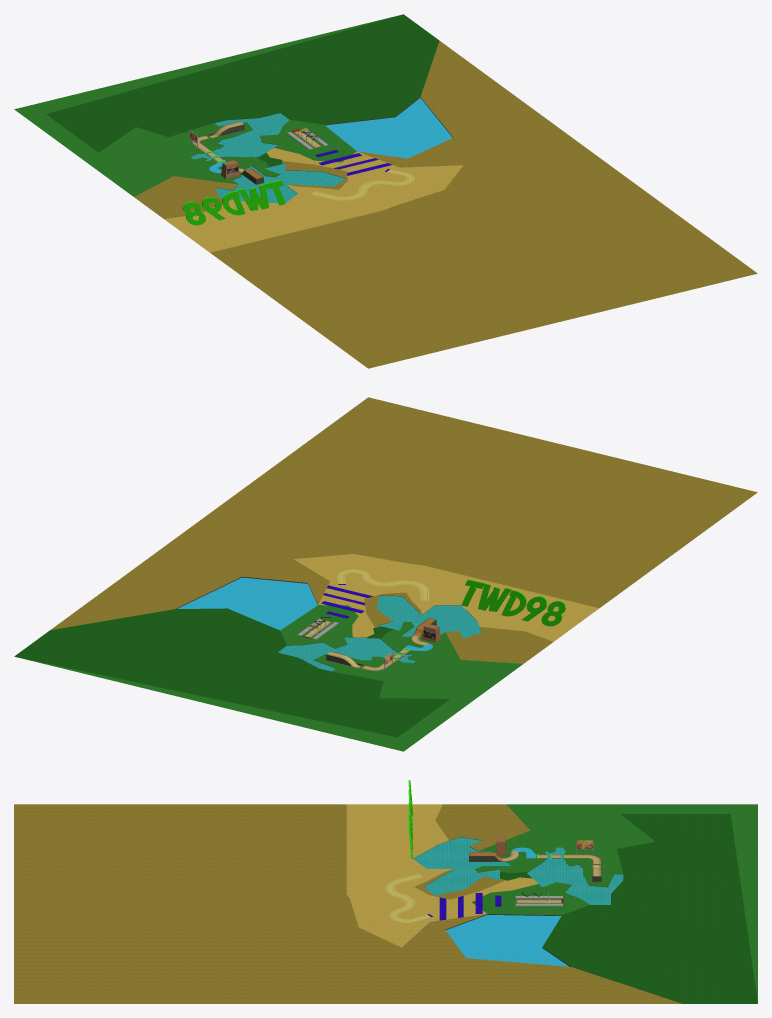
The picture shows the model from 3 angles, top to bottom: view 1: azimuth 30°, elevation 25°; view 2: azimuth 150°, elevation 25°; view 3: azimuth 270°, elevation 25°; orthographic projection. The views are drawn at different scales.
Parts seen in each view (by area): view 1: Troy_Main-sanddeath.001, Troy_Main-grassdeath.001, Troy_Main-grass.001, Troy_Main-Material5.001, Troy_Main-Water_Sparkling.001, Troy_Main-Water_Pool.001, Troy_Main-TWD.001, Troy_Main-walls.001, Troy_Main-Material6.001, Troy_Main-dirt.001; view 2: Troy_Main-sanddeath.001, Troy_Main-grassdeath.001, Troy_Main-grass.001, Troy_Main-Material5.001, Troy_Main-Water_Pool.001, Troy_Main-Water_Sparkling.001, Troy_Main-TWD.001, Troy_Main-dirt.001, Troy_Main-walls.001, Troy_Main-Material6.001; view 3: Troy_Main-sanddeath.001, Troy_Main-grassdeath.001, Troy_Main-grass.001, Troy_Main-Material5.001, Troy_Main-Water_Pool.001, Troy_Main-Water_Sparkling.001, Troy_Main-dirt.001, Troy_Main-walls.001, Troy_Main-Material6.001, Troy_Main-boost.001.
Part boxes in pixels (x1,y1,x2,y2): Troy_Main-sanddeath.001: (134, 41, 757, 368); Troy_Main-grassdeath.001: (46, 14, 439, 166); Troy_Main-grass.001: (14, 15, 397, 196); Troy_Main-Material5.001: (164, 148, 463, 252); Troy_Main-Water_Sparkling.001: (209, 98, 452, 173); Troy_Main-Water_Pool.001: (191, 113, 345, 203); Troy_Main-TWD.001: (183, 180, 285, 225); Troy_Main-walls.001: (191, 97, 453, 193); Troy_Main-Material6.001: (311, 169, 414, 200); Troy_Main-dirt.001: (192, 121, 322, 172); Troy_Main-sanddeath.001: (50, 397, 757, 663); Troy_Main-grassdeath.001: (14, 608, 449, 737); Troy_Main-grass.001: (17, 605, 522, 751); Troy_Main-Material5.001: (294, 554, 598, 641); Troy_Main-Water_Pool.001: (278, 595, 481, 671); Troy_Main-Water_Sparkling.001: (177, 577, 432, 650); Troy_Main-TWD.001: (461, 579, 565, 626); Troy_Main-dirt.001: (304, 620, 430, 670); Troy_Main-walls.001: (175, 576, 481, 668); Troy_Main-Material6.001: (337, 569, 429, 600); Troy_Main-sanddeath.001: (14, 804, 681, 1003); Troy_Main-grassdeath.001: (500, 814, 757, 1003); Troy_Main-grass.001: (472, 804, 757, 1002); Troy_Main-Material5.001: (346, 804, 538, 947); Troy_Main-Water_Pool.001: (413, 837, 623, 904); Troy_Main-Water_Sparkling.001: (446, 847, 569, 966); Troy_Main-dirt.001: (502, 850, 601, 903); Troy_Main-walls.001: (413, 837, 622, 966); Troy_Main-Material6.001: (385, 873, 430, 922); Troy_Main-boost.001: (427, 893, 501, 920).
Size of the model in its own units: 152731 by 10502 by 240561.
42 materials, 42 textured.
